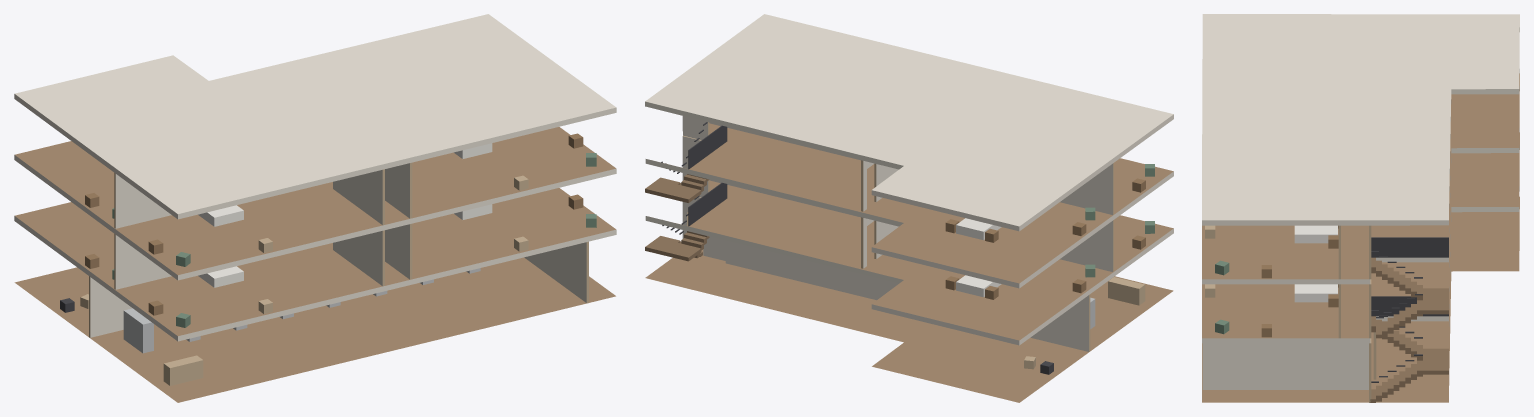
Rendered from interior.glb.
The picture shows the model from 3 angles, left to right: view 1: azimuth 30°, elevation 25°; view 2: azimuth 150°, elevation 25°; view 3: azimuth 270°, elevation 25°; orthographic projection. The views are drawn at different scales.
Parts seen in each view (by area): view 1: slabs, partitions, coarse-s0, coarse-s1, coarse-s2; view 2: slabs, partitions, stair, coarse-s1, coarse-s2, coarse-s0; view 3: slabs, partitions, stair, coarse-s1, coarse-s2.
Boxes of the visible parts, left/top/right/bottom form: slabs: left=14, top=14, right=616, bottom=402; partitions: left=89, top=162, right=588, bottom=337; coarse-s0: left=60, top=268, right=480, bottom=385; coarse-s1: left=85, top=194, right=596, bottom=327; coarse-s2: left=85, top=133, right=596, bottom=266; slabs: left=645, top=14, right=1173, bottom=402; partitions: left=682, top=116, right=1113, bottom=351; stair: left=645, top=122, right=727, bottom=261; coarse-s1: left=945, top=221, right=1154, bottom=299; coarse-s2: left=945, top=164, right=1154, bottom=242; coarse-s0: left=1024, top=277, right=1145, bottom=374; slabs: left=1202, top=14, right=1519, bottom=402; partitions: left=1202, top=225, right=1376, bottom=402; stair: left=1370, top=237, right=1448, bottom=402; coarse-s1: left=1205, top=284, right=1338, bottom=337; coarse-s2: left=1205, top=225, right=1338, bottom=278.
Bounding box in the file's own units: 22.55 × 9.3 × 14.67.
